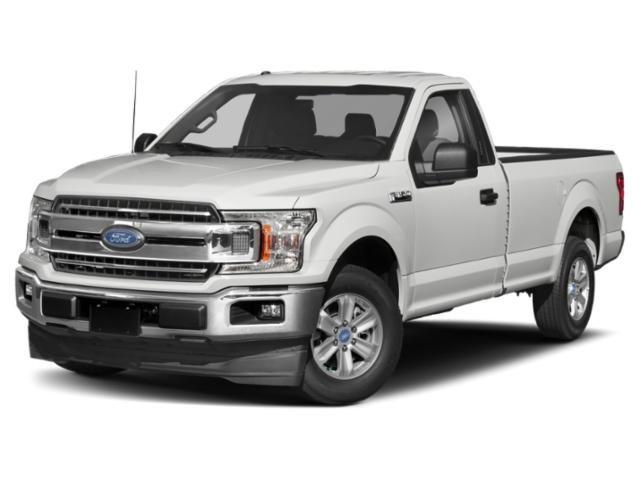pickup-truck: (15, 70, 626, 406)
